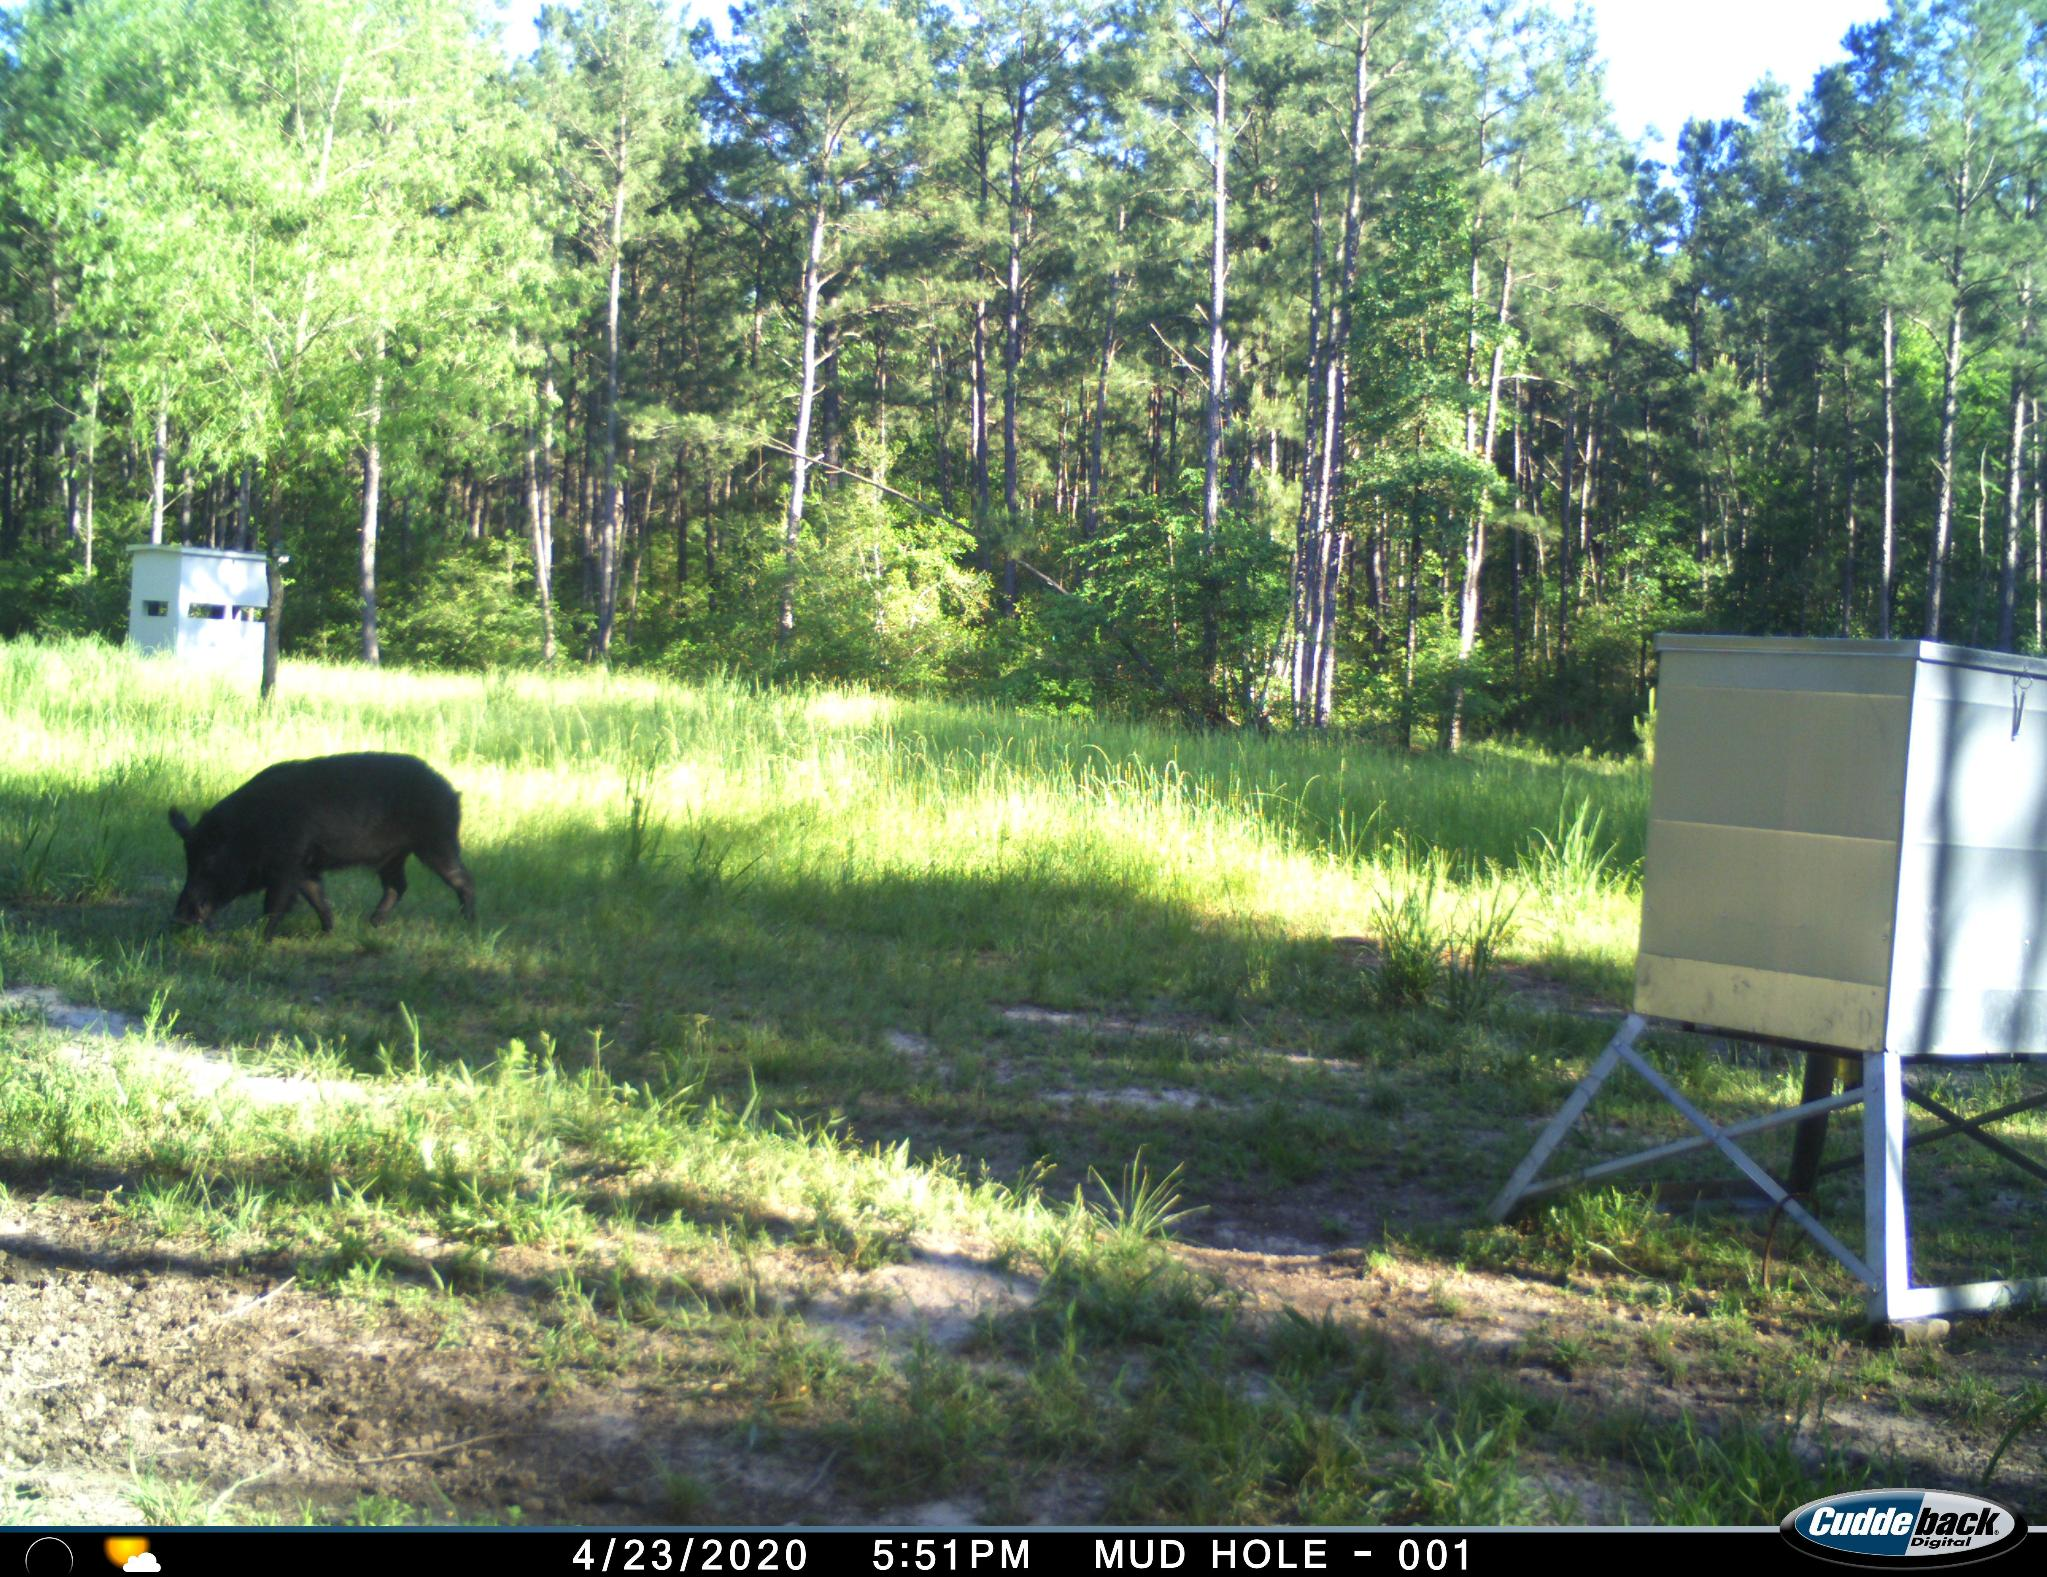Hog: (159, 749, 490, 964)
